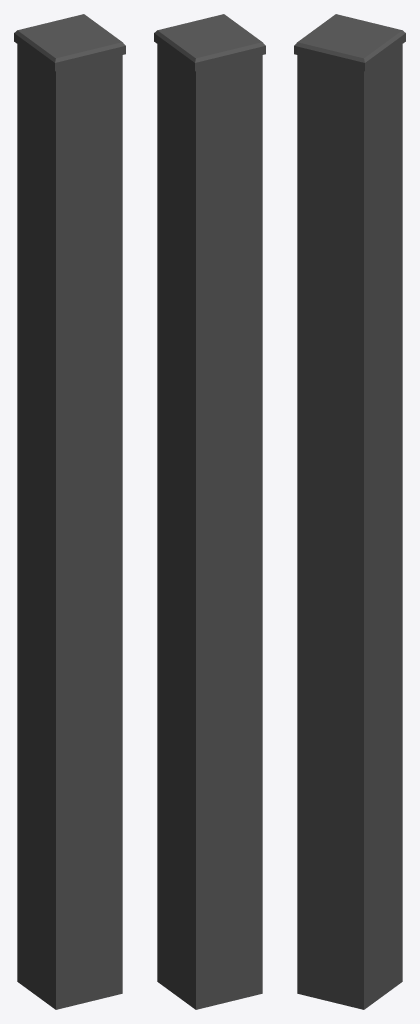
Rendered from SM_Floor_RoadPart_06.fbx.
3 views of the same model, side by side, from view 1: azimuth 30°, elevation 25°; view 2: azimuth 210°, elevation 25°; view 3: azimuth 330°, elevation 25° (orthographic).
Visible parts, largest first — view 1: SM_Floor_RoadPart_06; view 2: SM_Floor_RoadPart_06; view 3: SM_Floor_RoadPart_06.
Boxes of the visible parts, x1,y1,x2,y2 form: SM_Floor_RoadPart_06: [14, 14, 125, 1009]; SM_Floor_RoadPart_06: [154, 14, 265, 1009]; SM_Floor_RoadPart_06: [294, 14, 405, 1009].
Bounding box in the file's own units: 0.7966 × 10.23 × 0.7966.
